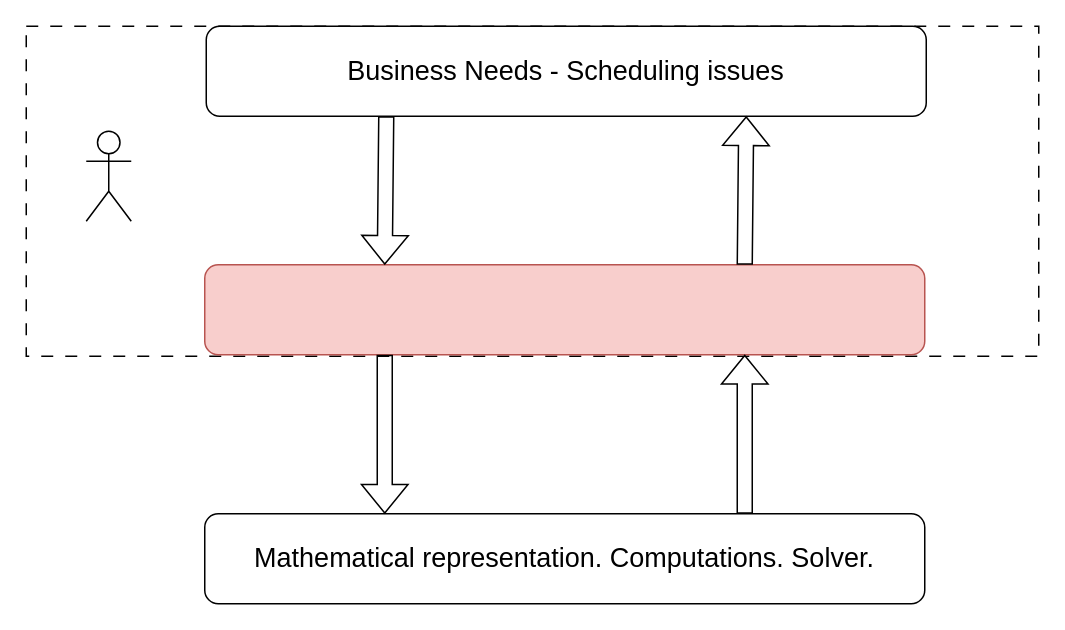
Image size: 1065x630. Some labels were removed from this diagram. The centre of each missing label's shape, as x and y in pixels:
"Business Expert" belongs at point (108, 175).
"ProcessScheduling framework" belongs at point (564, 309).
